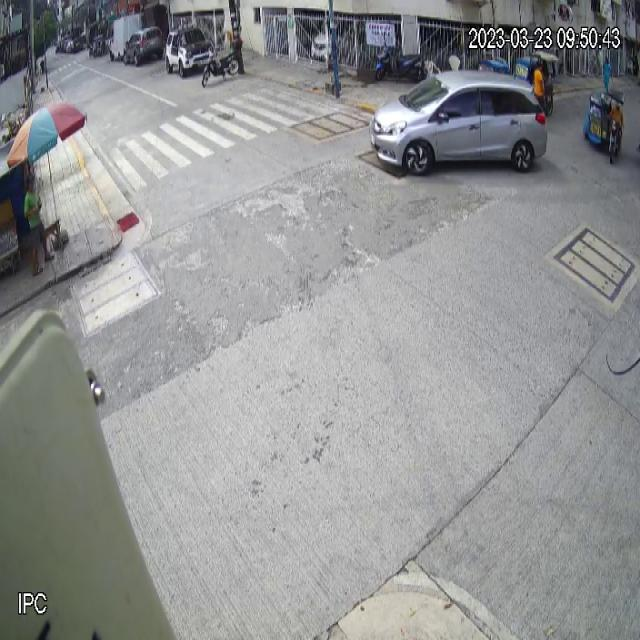Car: (368, 69, 550, 180)
